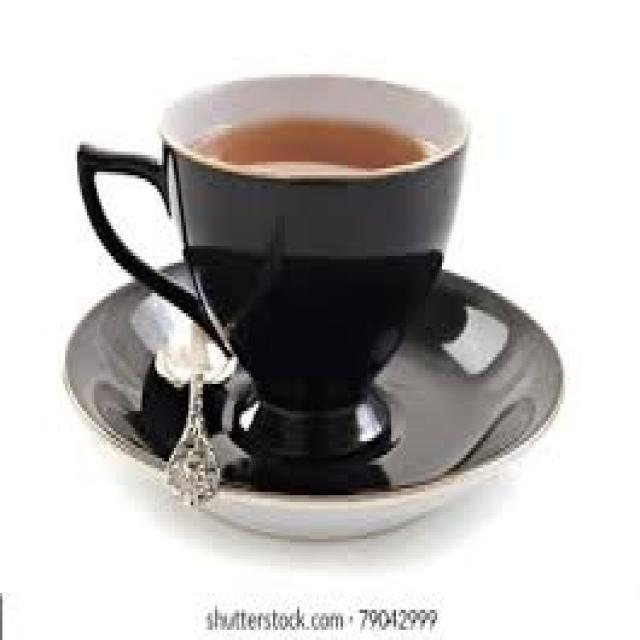taza: (72, 70, 478, 410)
